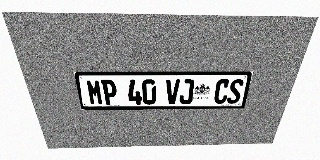0: (142, 79, 156, 105)
4: (127, 79, 142, 105)
C: (213, 79, 231, 104)
J: (179, 79, 194, 104)
M: (86, 79, 104, 105)
P: (101, 79, 118, 105)
S: (226, 79, 244, 104)
V: (165, 79, 180, 104)
